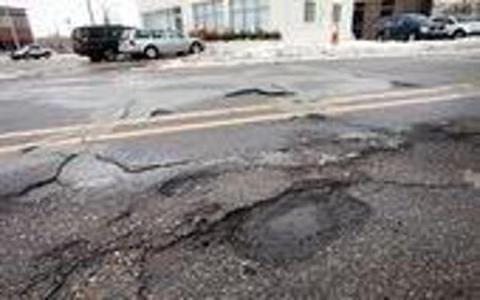patchy roads: (39, 136, 383, 271)
